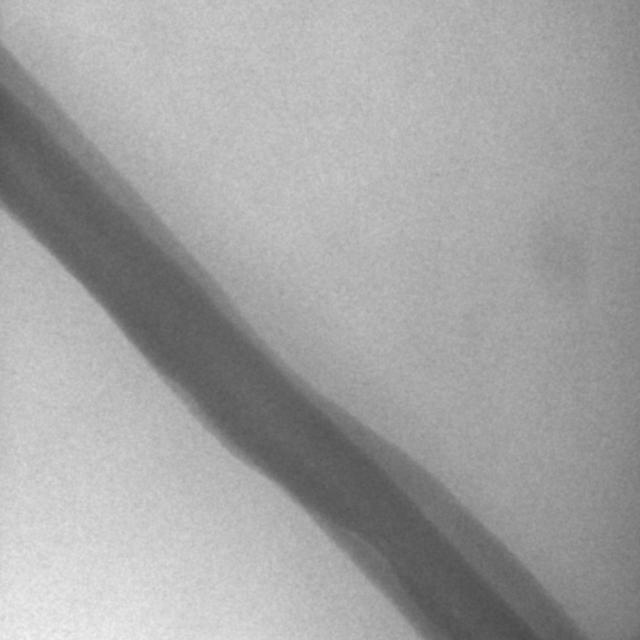unfused: (345, 530, 396, 575)
